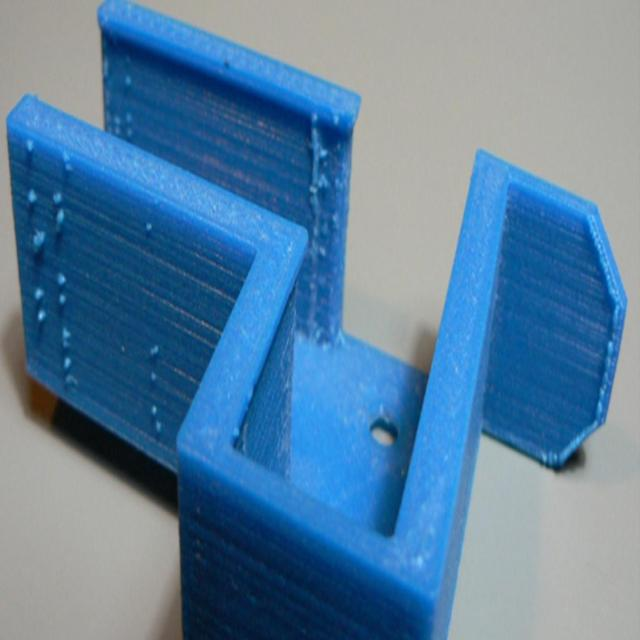blobs: (310, 120, 328, 331), (104, 110, 120, 136), (32, 223, 44, 254), (61, 151, 73, 181), (57, 262, 69, 290), (36, 307, 48, 333), (154, 418, 165, 445), (64, 373, 74, 400), (33, 279, 43, 305), (62, 321, 72, 347), (22, 136, 34, 153), (55, 212, 67, 229), (147, 342, 159, 358), (62, 354, 74, 370), (26, 188, 37, 205), (51, 190, 66, 202), (120, 67, 130, 84), (150, 372, 160, 387), (104, 55, 111, 76), (143, 221, 152, 237), (123, 108, 131, 126), (58, 296, 68, 306), (151, 406, 158, 417)
